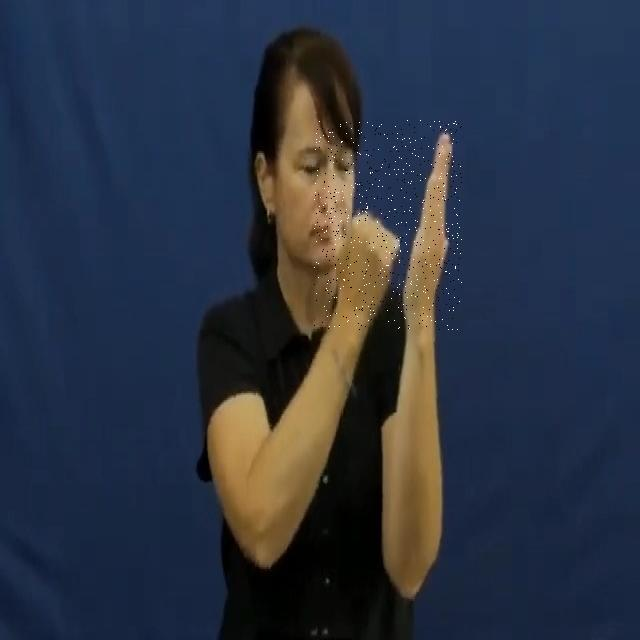menu: (314, 120, 462, 330)
